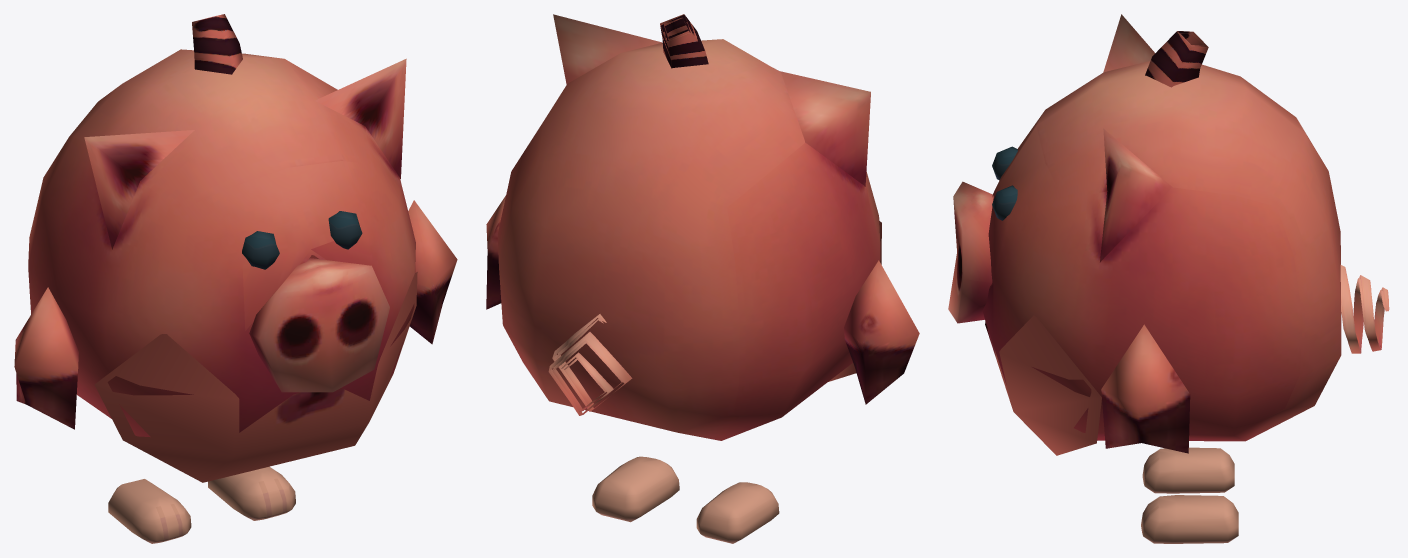
File: melvin.fbx
3 views of the same model, side by side, from view 1: azimuth 30°, elevation 25°; view 2: azimuth 150°, elevation 25°; view 3: azimuth 270°, elevation 25° (orthographic). The views are drawn at different scales.
Visible parts, largest first — view 1: MelvinHead.001, Smiles, MelvinNose, Righthand, RightEar.001, LeftEar.001, LeftHand, male_foot_left_bruce.001, male_foot_left_bruce.004, Tail.001, rudy_SC_eye_right, rudy_SC_eye_right.001; view 2: MelvinHead.001, Righthand, RightEar.001, male_foot_left_bruce.004, male_foot_left_bruce.001, LeftEar.001, T2.001, Tail.001, LeftHand; view 3: MelvinHead.001, Smiles, LeftHand, MelvinNose, LeftEar.001, male_foot_left_bruce.004, male_foot_left_bruce.001, T2.001, Tail.001, RightEar.001, rudy_SC_eye_right.001.
Part boxes in pixels (x1,y1,x2,y2): MelvinHead.001: [28, 49, 415, 437]; Smiles: [94, 272, 417, 482]; MelvinNose: [249, 258, 389, 392]; Righthand: [14, 287, 78, 429]; RightEar.001: [84, 130, 194, 249]; LeftEar.001: [314, 58, 406, 178]; LeftHand: [408, 200, 457, 344]; male_foot_left_bruce.001: [108, 479, 191, 543]; male_foot_left_bruce.004: [208, 466, 295, 520]; Tail.001: [192, 14, 242, 74]; rudy_SC_eye_right: [242, 231, 279, 269]; rudy_SC_eye_right.001: [328, 211, 362, 249]; MelvinHead.001: [497, 39, 880, 440]; Righthand: [844, 260, 919, 404]; RightEar.001: [780, 71, 870, 186]; male_foot_left_bruce.004: [592, 456, 679, 522]; male_foot_left_bruce.001: [696, 482, 779, 543]; LeftEar.001: [553, 14, 661, 84]; T2.001: [548, 314, 632, 415]; Tail.001: [660, 14, 708, 68]; LeftHand: [486, 195, 505, 309]; MelvinHead.001: [982, 61, 1341, 441]; Smiles: [985, 315, 1101, 455]; LeftHand: [1101, 324, 1190, 453]; MelvinNose: [948, 181, 993, 323]; LeftEar.001: [1100, 128, 1172, 262]; male_foot_left_bruce.004: [1141, 495, 1238, 543]; male_foot_left_bruce.001: [1142, 447, 1234, 493]; T2.001: [1340, 265, 1389, 353]; Tail.001: [1145, 31, 1208, 87]; RightEar.001: [1103, 14, 1155, 72]; rudy_SC_eye_right.001: [992, 185, 1017, 220].
Size of the model in its own units: 1.67 by 1.82 by 1.51.
Materials: 10 (10 with a texture image).
